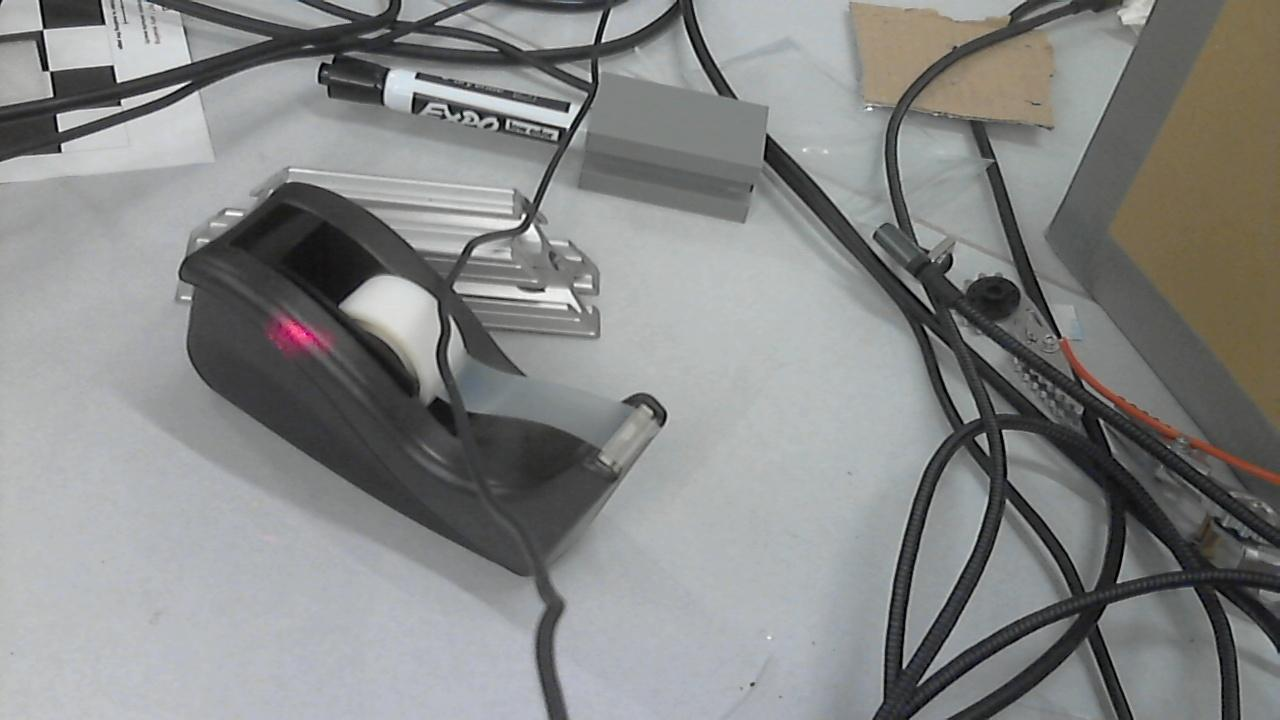Object desktop tape dispenser - Material plastic - Pdfname 8pMd29OsIRjD: (243, 313, 344, 370)
